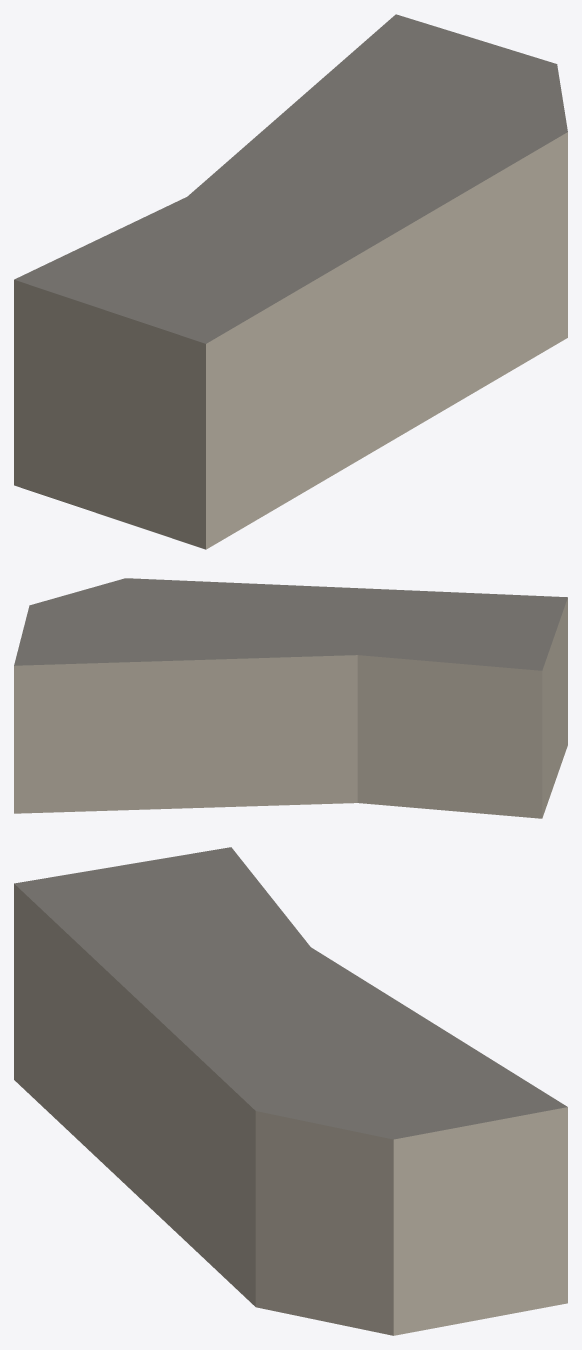
The picture shows the model from 3 angles, top to bottom: view 1: azimuth 30°, elevation 25°; view 2: azimuth 150°, elevation 25°; view 3: azimuth 270°, elevation 25°; orthographic projection. The views are drawn at different scales.
Visible parts, largest first — view 1: HP-w1287260013; view 2: HP-w1287260013; view 3: HP-w1287260013.
Boxes of the visible parts, box(x1,y1,x2,y2) form: HP-w1287260013: box(14, 14, 567, 549); HP-w1287260013: box(14, 578, 567, 818); HP-w1287260013: box(14, 847, 567, 1335).
Bounding box in the file's own units: 57.5 × 18 × 46.03.
